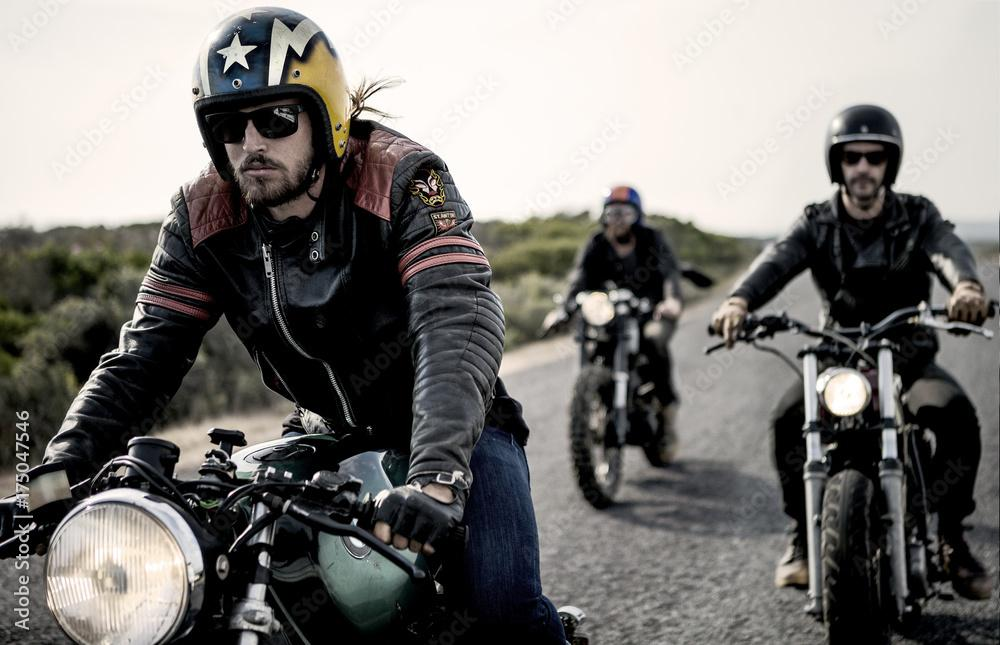helmet: (189, 4, 354, 213), (823, 103, 905, 212), (599, 184, 644, 247)
